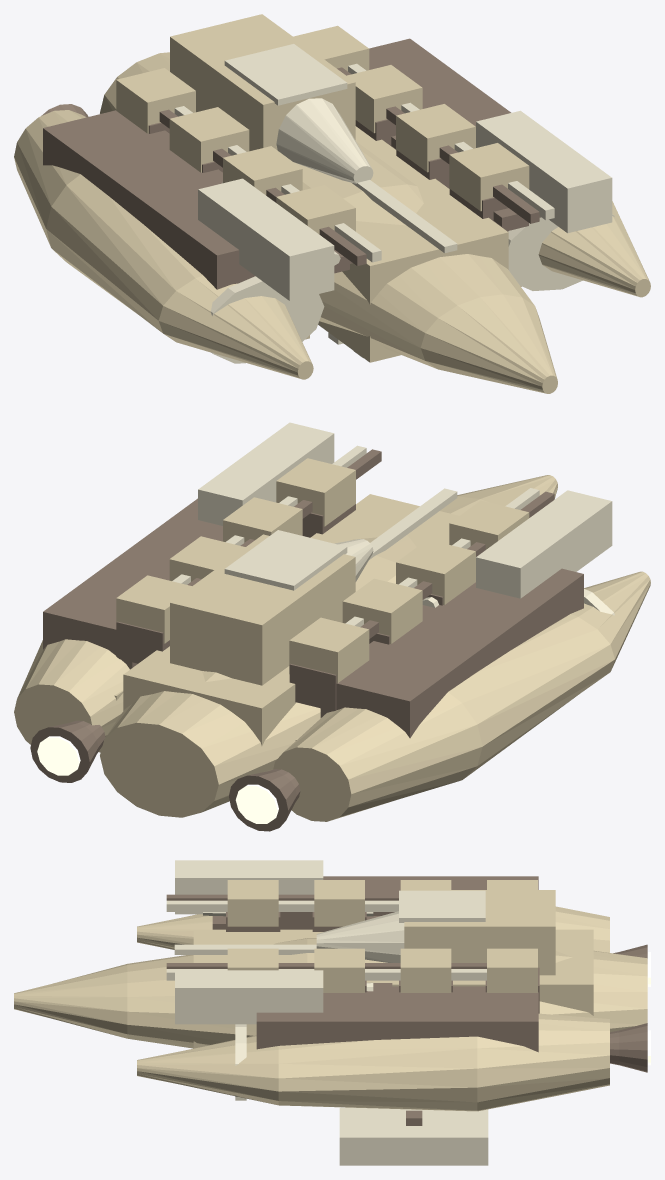
3 views of the same model, one above another, from view 1: azimuth 30°, elevation 25°; view 2: azimuth 150°, elevation 25°; view 3: azimuth 270°, elevation 25° (orthographic). The views are drawn at different scales.
Size of the model in its own units: 15.91 by 6.93 by 23.58.
